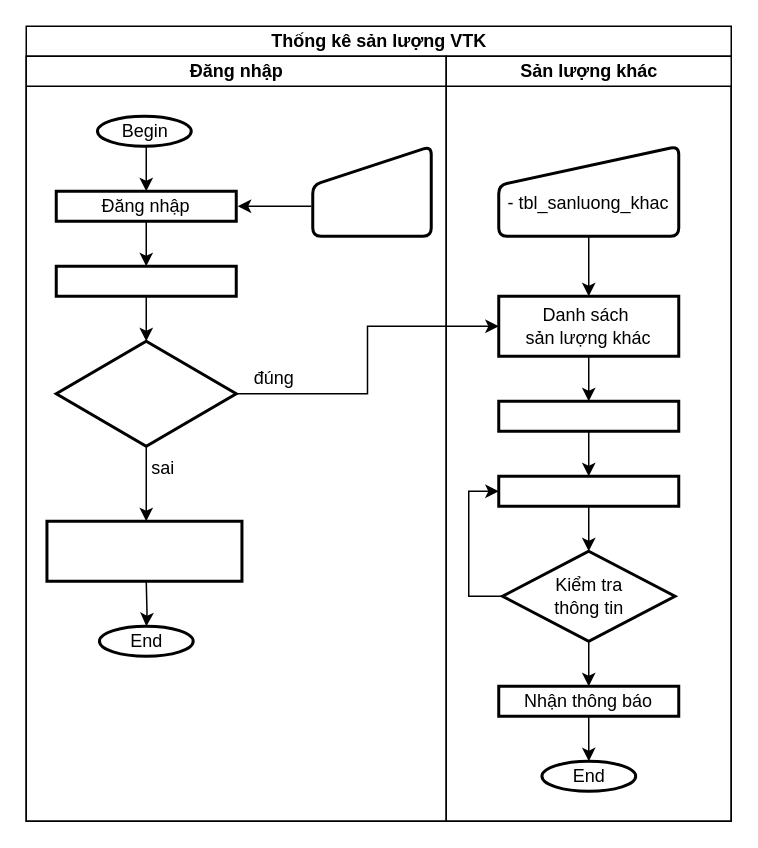
This 758x848 diagram has some shape labels left out. Each missing label, with the box of its shape:
- Tài khoản - Mật khẩu: (310, 144, 432, 237)
Nhập thông tin: (496, 474, 680, 507)
Phân quyền: (54, 264, 237, 297)
Thêm sản lượng khác: (496, 399, 680, 432)
Thông báo không đủ quyền thêm sản lượng: (45, 519, 243, 582)
user_role bằng 2 hoặc 3: (54, 339, 237, 447)
